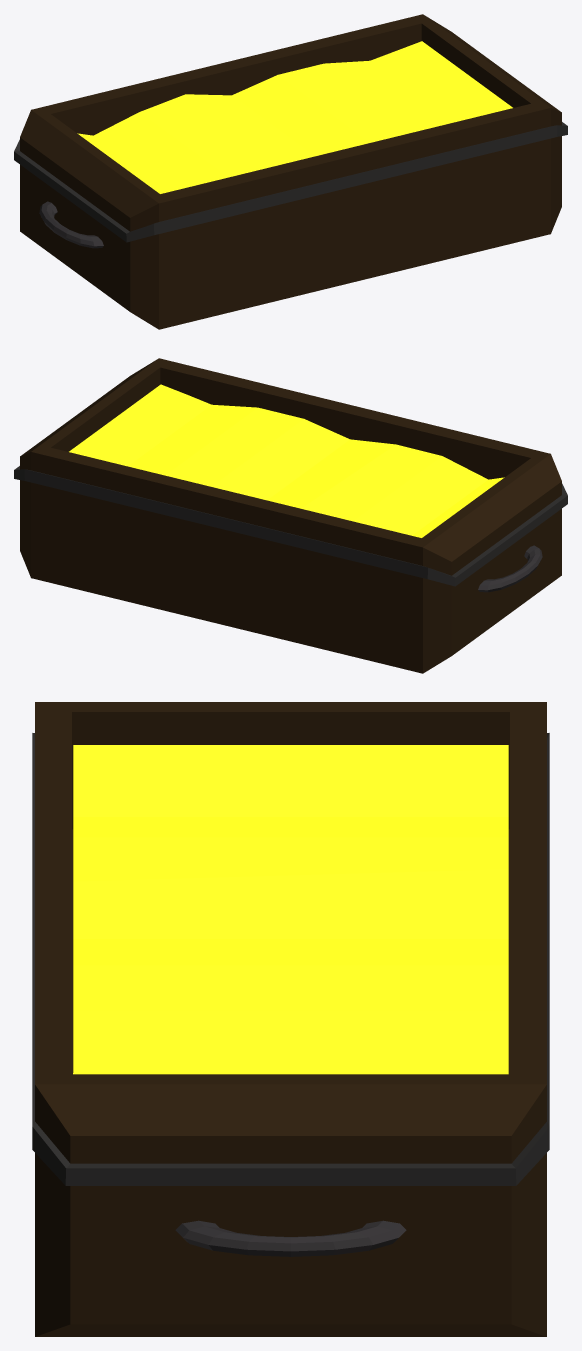
The model's file is Chest_Main.fbx.
The picture shows the model from 3 angles, top to bottom: view 1: azimuth 30°, elevation 25°; view 2: azimuth 150°, elevation 25°; view 3: azimuth 270°, elevation 25°; orthographic projection. The views are drawn at different scales.
Visible parts, largest first — view 1: Torus; view 2: Torus; view 3: Torus.
Boxes of the visible parts, x1,y1,x2,y2 form: Torus: (14, 14, 567, 329); Torus: (14, 358, 567, 673); Torus: (32, 702, 549, 1336).
Bounding box in the file's own units: 191 × 48.4 × 89.89.
